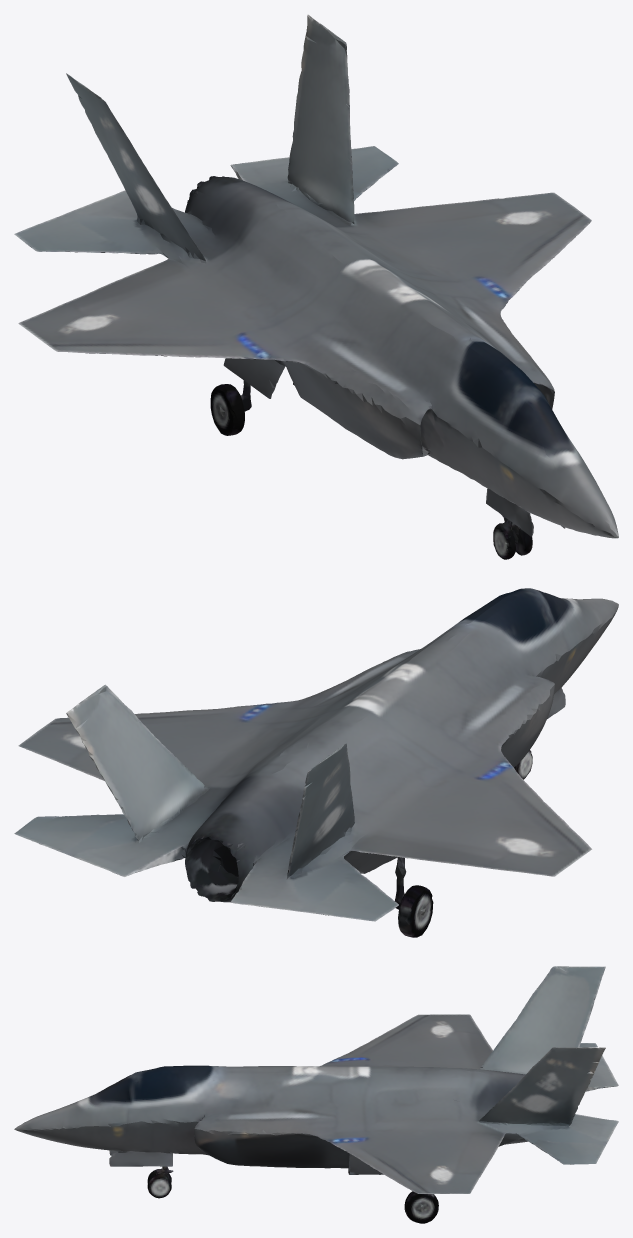
The model's file is F-35_Lightning_II_AI_Rodin.glb.
3 views of the same model, one above another, from view 1: azimuth 30°, elevation 25°; view 2: azimuth 150°, elevation 25°; view 3: azimuth 270°, elevation 25° (orthographic). The views are drawn at different scales.
Visible parts, largest first — view 1: model; view 2: model; view 3: model.
Boxes of the visible parts, box(x1,y1,x2,y2) form: model: box(14, 14, 618, 559); model: box(14, 588, 618, 937); model: box(14, 966, 618, 1223).
Size of the model in its own units: 1.33 by 0.6526 by 1.9.
1 material, 1 textured.
